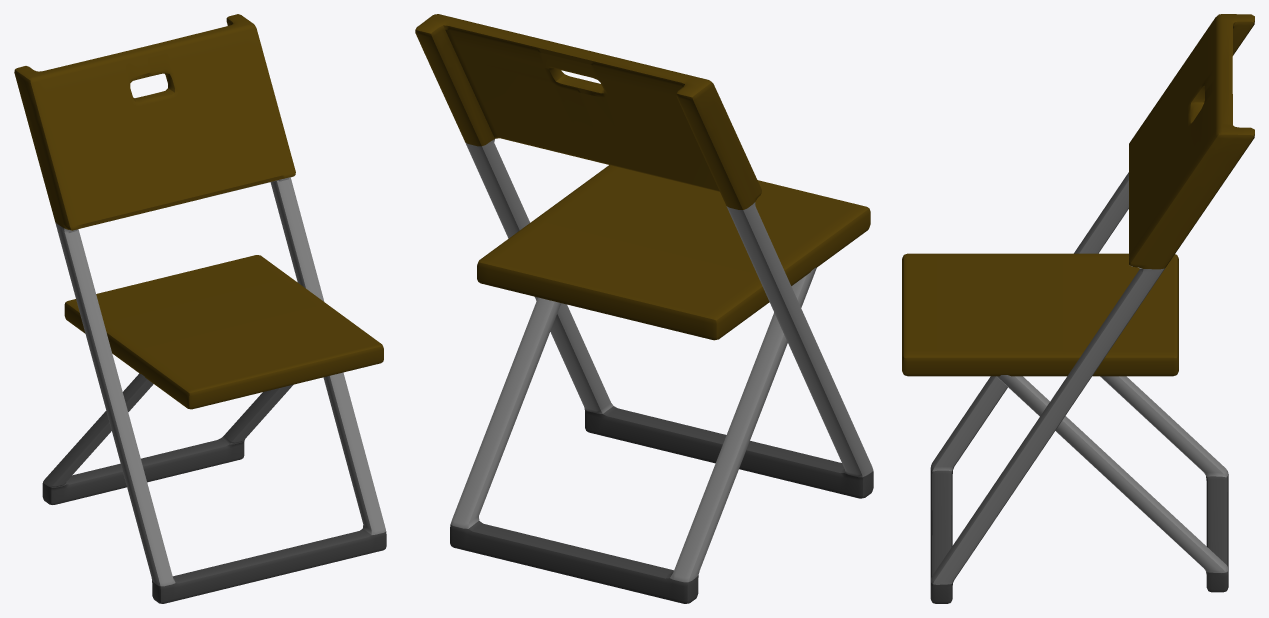
The model's file is FoldingChair.fbx.
The picture shows the model from 3 angles, left to right: view 1: azimuth 30°, elevation 25°; view 2: azimuth 150°, elevation 25°; view 3: azimuth 270°, elevation 25°; orthographic projection. The views are drawn at different scales.
Parts seen in each view (by area): view 1: group4_pasted__pCube3; view 2: group4_pasted__pCube3; view 3: group4_pasted__pCube3.
Boxes of the visible parts, x1,y1,x2,y2 form: group4_pasted__pCube3: [14, 14, 386, 603]; group4_pasted__pCube3: [415, 14, 873, 603]; group4_pasted__pCube3: [902, 14, 1254, 603].
Bounding box in the file's own units: 87.08 × 157 × 106.
